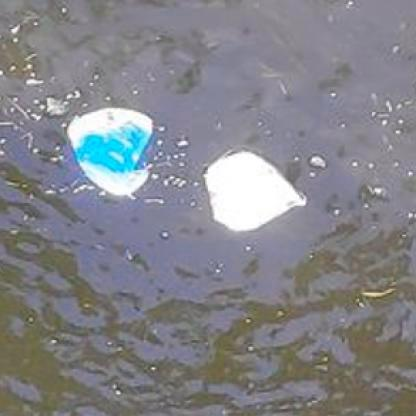Trash: (201, 146, 310, 234), (66, 103, 156, 196)
